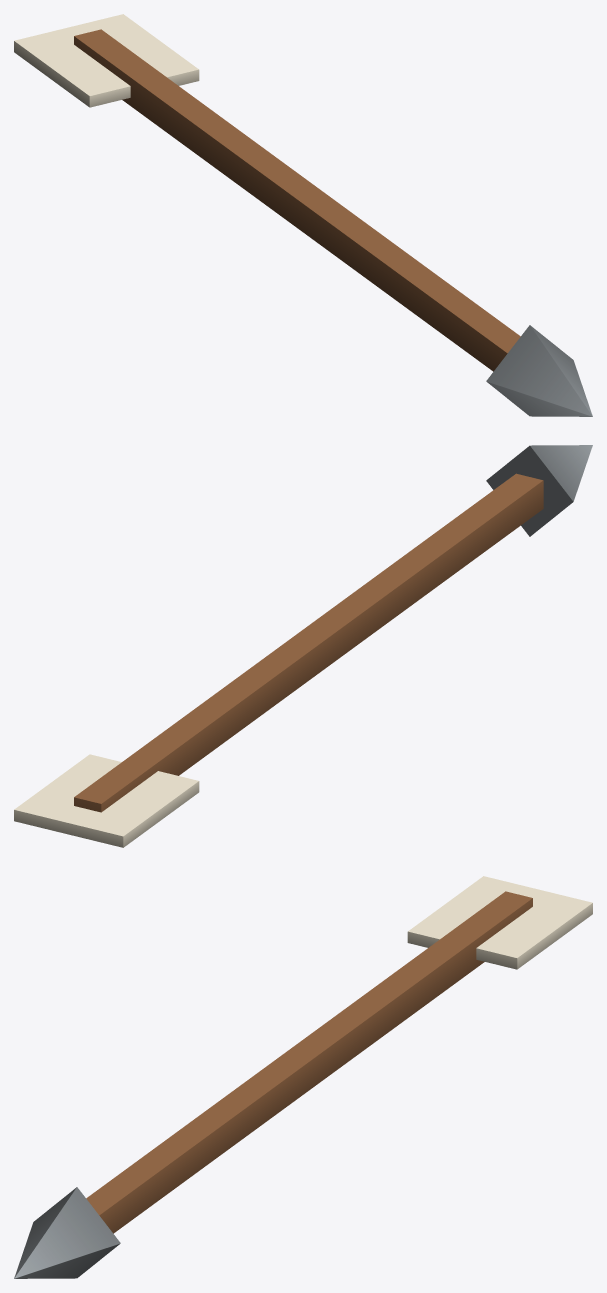
Rendered from arrow.glb.
3 renders of one model, top to bottom at view 1: azimuth 30°, elevation 25°; view 2: azimuth 150°, elevation 25°; view 3: azimuth 330°, elevation 25°, orthographic.
Parts seen in each view (by area): view 1: arrow; view 2: arrow; view 3: arrow.
Boxes of the visible parts, x1,y1,x2,y2 form: arrow: (14,14,592,416); arrow: (14,445,592,847); arrow: (14,876,592,1278).
Bounding box in the file's own units: 0.1 × 0.08 × 0.83.
1 material, 1 textured.
